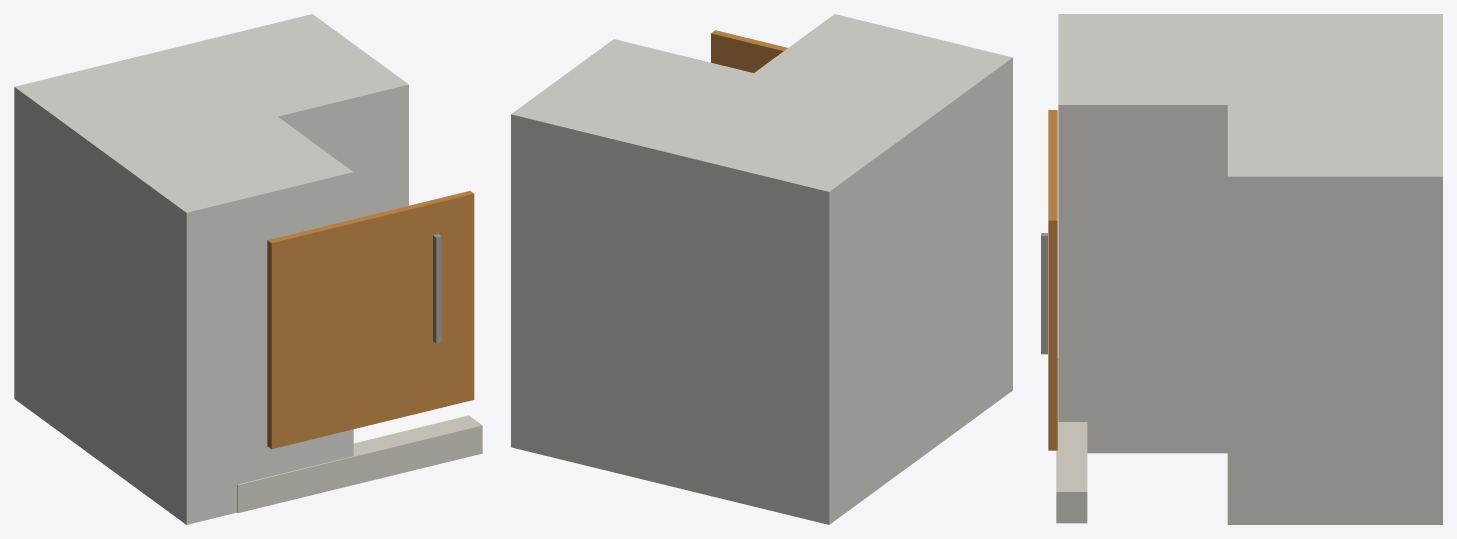
Rendered from flatBaseCorner.glb.
3 renders of one model, left to right at view 1: azimuth 30°, elevation 25°; view 2: azimuth 150°, elevation 25°; view 3: azimuth 270°, elevation 25°, orthographic. The views are drawn at different scales.
Parts seen in each view (by area): view 1: bodyReturn, bodyLeft, cornerDoor, toeKick, handle; view 2: bodyLeft, bodyReturn, cornerDoor; view 3: bodyLeft, bodyReturn, cornerDoor, toeKick, handle.
Part boxes in pixels (bbox=[...]): bodyReturn: bbox=[14, 46, 353, 524]; bodyLeft: bbox=[14, 14, 408, 468]; cornerDoor: bbox=[267, 191, 474, 449]; toeKick: bbox=[237, 415, 482, 512]; handle: bbox=[433, 234, 441, 343]; bodyLeft: bbox=[511, 39, 931, 524]; bodyReturn: bbox=[651, 14, 1012, 524]; cornerDoor: bbox=[711, 30, 787, 72]; bodyLeft: bbox=[1227, 14, 1442, 524]; bodyReturn: bbox=[1058, 14, 1442, 453]; cornerDoor: bbox=[1048, 110, 1057, 450]; toeKick: bbox=[1056, 359, 1087, 523]; handle: bbox=[1041, 233, 1047, 354].
Bounding box in the file's own units: 1 × 1 × 1.05.
